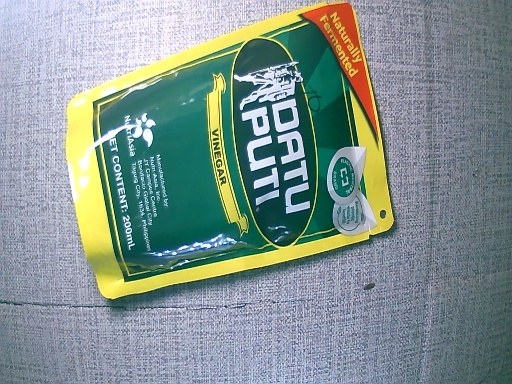plastic: (64, 3, 395, 299)
